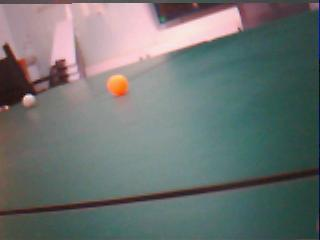oball: (108, 75, 129, 95)
